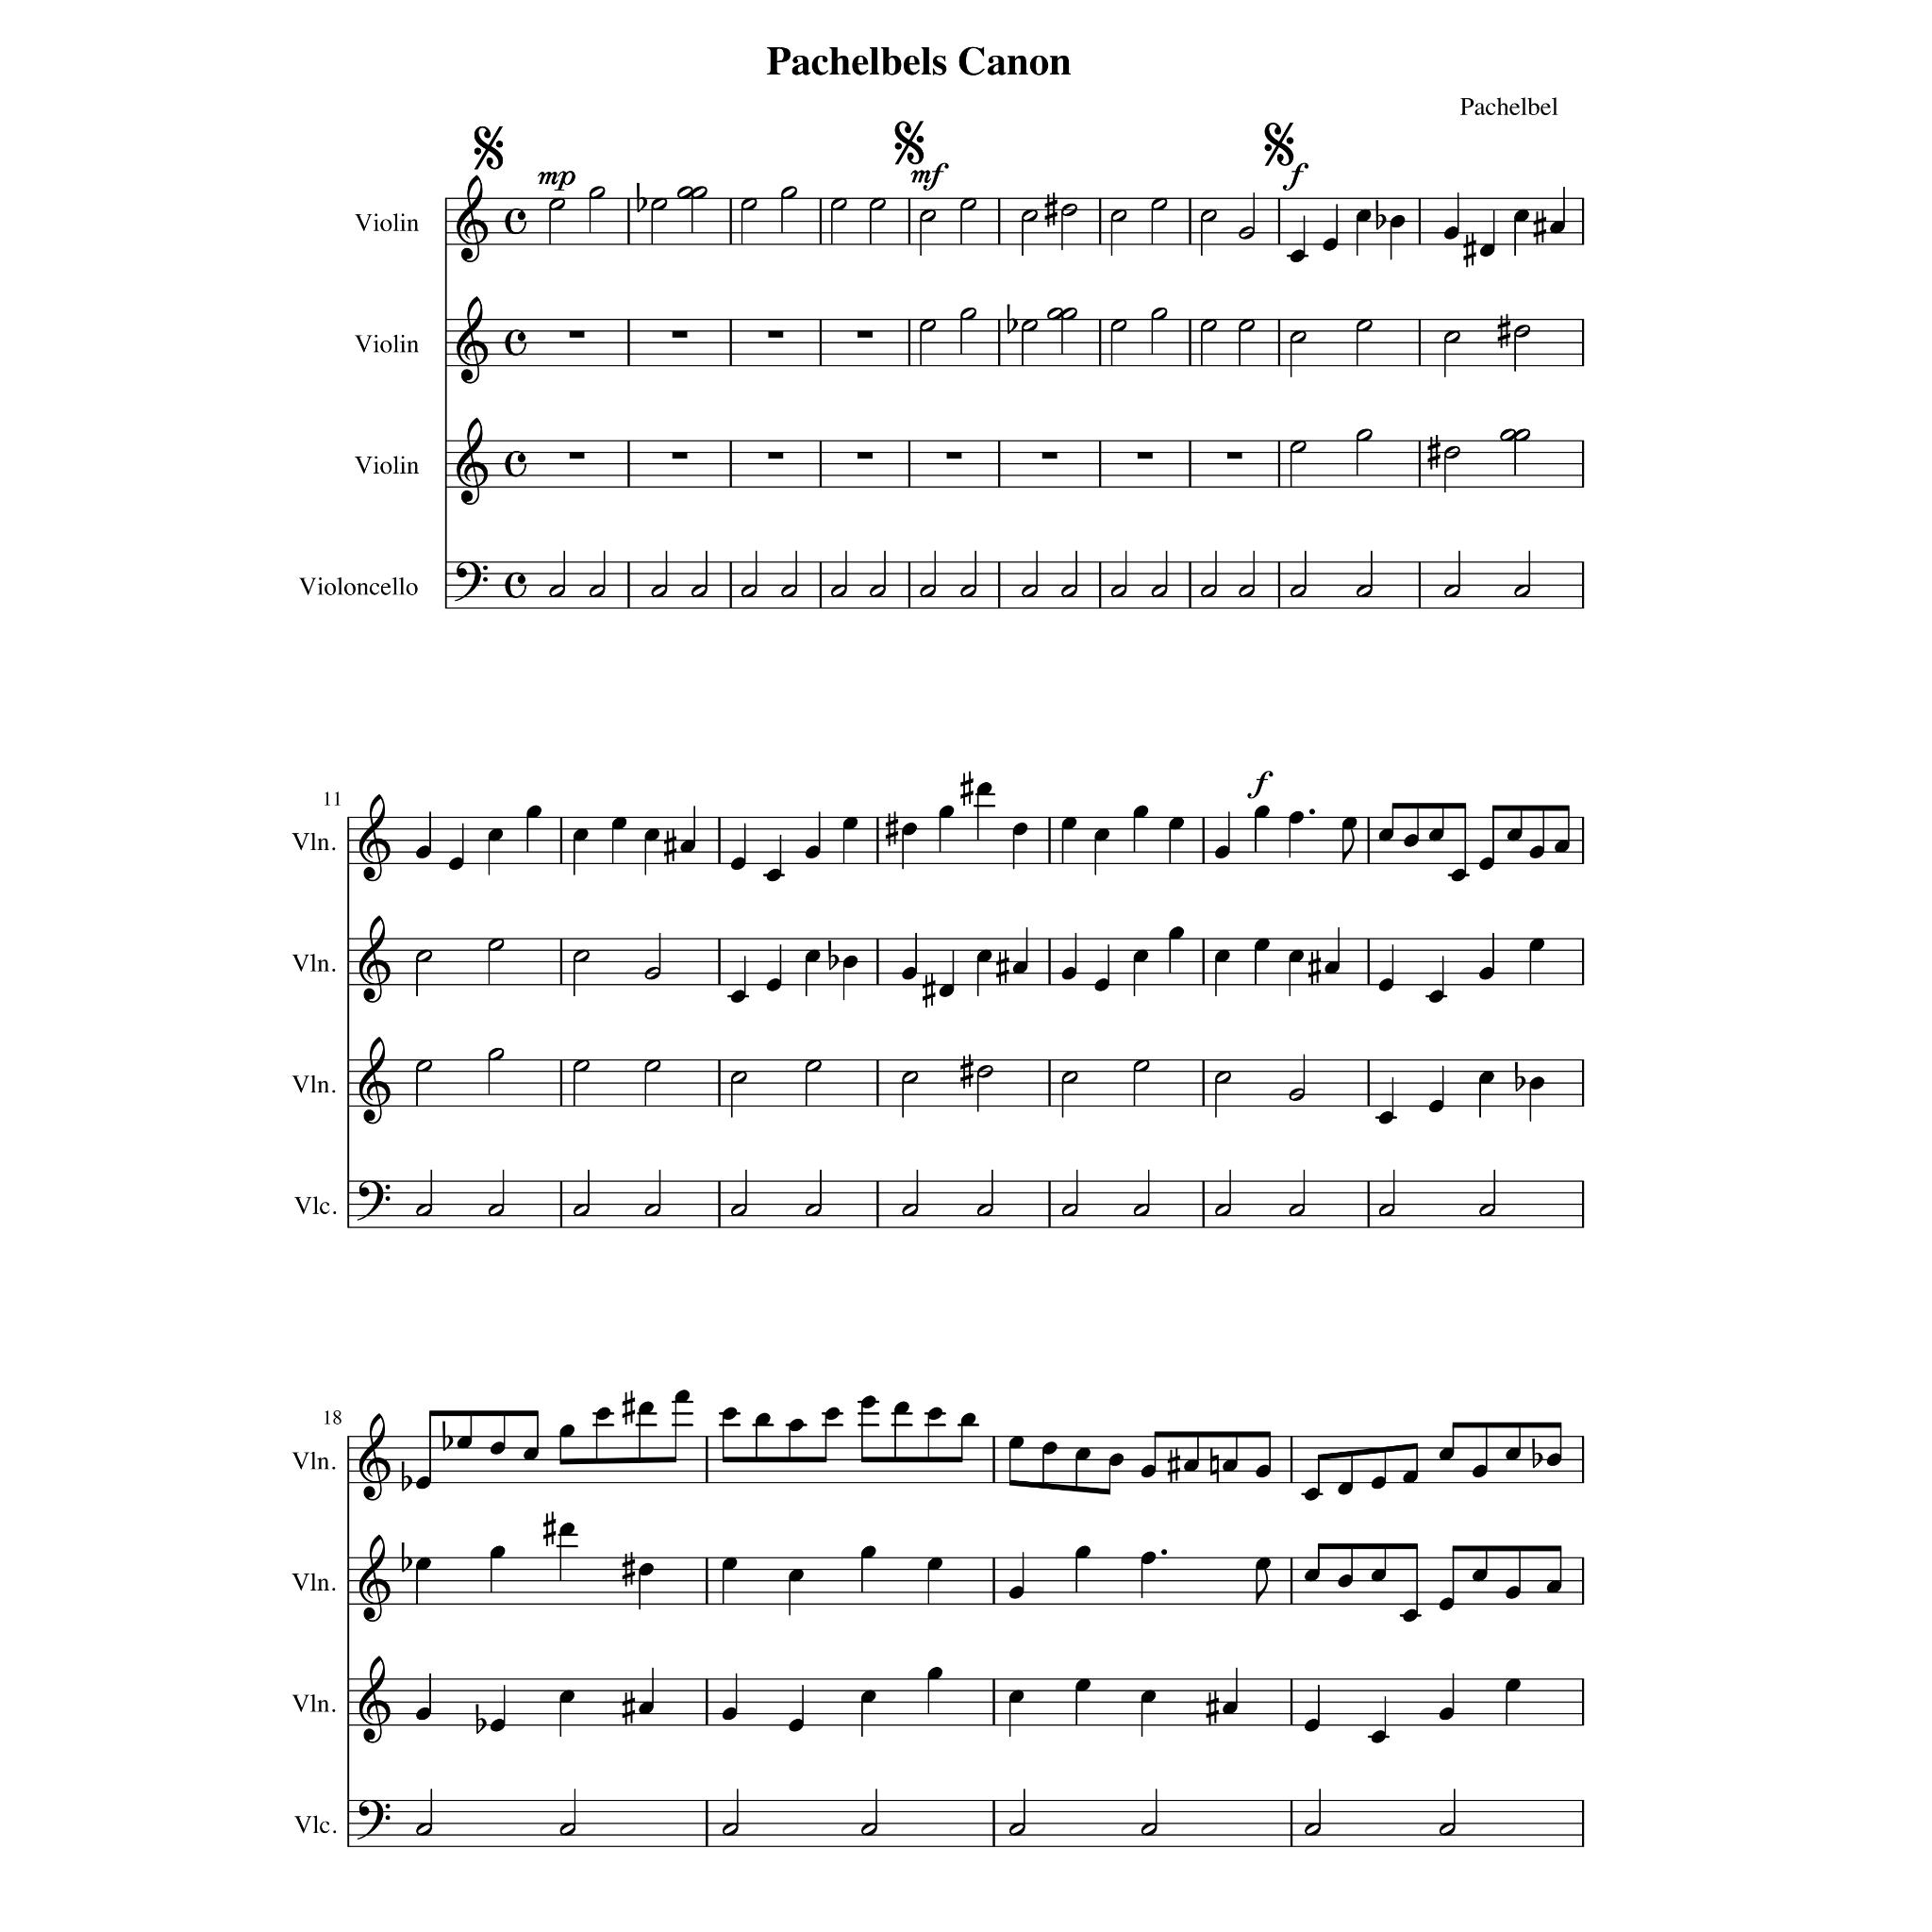fClef: (453, 563, 488, 602), (357, 1180, 391, 1221), (357, 1799, 391, 1840)
flag8thDown: (1256, 1569, 1269, 1605), (1341, 830, 1353, 863)
gClef: (456, 295, 488, 386), (359, 1035, 391, 1125), (359, 793, 391, 883), (456, 418, 488, 506), (456, 175, 488, 264), (359, 915, 391, 1003), (359, 1534, 391, 1622), (359, 1654, 391, 1743), (359, 1414, 391, 1502)
noteheadBlack: (1355, 209, 1373, 223), (1214, 846, 1231, 860), (1341, 816, 1359, 830), (1369, 1476, 1387, 1490), (488, 1440, 506, 1454), (488, 1545, 506, 1559), (488, 1718, 506, 1732), (787, 1718, 805, 1732), (1290, 249, 1306, 264), (1513, 209, 1529, 223), (1479, 244, 1495, 258), (1253, 805, 1269, 819), (1012, 961, 1028, 975), (1062, 816, 1077, 830), (1132, 805, 1148, 819), (1168, 816, 1184, 830), (1093, 828, 1109, 842), (1507, 828, 1523, 842), (1529, 846, 1545, 860), (1529, 1076, 1545, 1090), (1479, 856, 1495, 870), (1451, 869, 1467, 883), (1479, 1070, 1495, 1085), (1378, 828, 1394, 842), (1378, 1111, 1394, 1125), (1323, 961, 1339, 975), (1430, 989, 1445, 1003), (1403, 833, 1419, 847), (1430, 828, 1445, 842), (571, 828, 587, 842), (729, 856, 745, 870), (729, 989, 745, 1003), (644, 828, 660, 842), (416, 846, 432, 860), (525, 805, 541, 819), (448, 856, 464, 870), (487, 828, 502, 842), (938, 805, 954, 819), (938, 984, 954, 998), (766, 869, 782, 883), (805, 846, 821, 860), (842, 816, 858, 830), (842, 955, 858, 970), (1254, 1465, 1270, 1479), (1223, 1700, 1238, 1714), (1304, 1718, 1320, 1732), (1042, 1440, 1058, 1454), (1139, 1465, 1155, 1479), (1139, 1552, 1155, 1566), (1108, 1453, 1123, 1467), (1506, 1585, 1522, 1599), (1506, 1677, 1522, 1691), (1472, 1465, 1488, 1479), (1546, 1453, 1562, 1467), (1546, 1580, 1562, 1594), (1338, 1575, 1353, 1589), (1438, 1707, 1454, 1721), (1403, 1470, 1419, 1484), (559, 1424, 575, 1438), (674, 1389, 690, 1403), (639, 1401, 655, 1415), (639, 1700, 655, 1714), (416, 1476, 432, 1490), (416, 1707, 432, 1721), (893, 1401, 909, 1415), (860, 1545, 876, 1559), (1008, 1585, 1024, 1599), (927, 1667, 943, 1681), (961, 1412, 977, 1426), (722, 1707, 738, 1721), (754, 1412, 770, 1426), (1214, 950, 1231, 962), (1553, 840, 1571, 853), (1369, 1569, 1387, 1582), (1369, 1730, 1387, 1743), (787, 1419, 805, 1431), (787, 1569, 805, 1582), (612, 816, 626, 830), (1076, 1545, 1090, 1559), (1076, 1677, 1090, 1691), (1548, 221, 1564, 234), (1389, 216, 1405, 228), (1444, 226, 1460, 239), (1322, 239, 1338, 251), (1012, 823, 1028, 835), (1288, 812, 1304, 824), (1253, 939, 1269, 952), (1288, 950, 1304, 962), (1062, 968, 1077, 980), (1132, 950, 1148, 962), (1168, 927, 1184, 939), (1093, 978, 1109, 991), (1529, 939, 1545, 952), (1479, 968, 1495, 980), (1378, 978, 1394, 991), (1430, 1100, 1445, 1113), (679, 840, 695, 853), (977, 782, 993, 794), (977, 950, 993, 962), (766, 978, 782, 991), (805, 950, 821, 962), (1254, 1557, 1270, 1569), (1184, 1460, 1200, 1472), (1223, 1460, 1238, 1472), (1304, 1569, 1320, 1582), (1304, 1488, 1320, 1500), (1139, 1690, 1155, 1702), (1506, 1447, 1522, 1460), (1472, 1569, 1488, 1582), (1338, 1483, 1353, 1495), (1438, 1447, 1454, 1460), (1438, 1598, 1454, 1610), (1403, 1610, 1419, 1622), (559, 1690, 575, 1702), (559, 1523, 575, 1536), (524, 1447, 540, 1460), (594, 1408, 610, 1421), (639, 1564, 655, 1576), (416, 1557, 432, 1569), (456, 1437, 472, 1449), (824, 1408, 840, 1421), (860, 1396, 876, 1408), (860, 1690, 876, 1702), (1008, 1437, 1024, 1449), (1008, 1690, 1024, 1702), (927, 1408, 943, 1421), (927, 1557, 943, 1569), (722, 1408, 738, 1421), (722, 1557, 738, 1569), (902, 823, 916, 835), (902, 968, 916, 980), (1076, 1447, 1090, 1460)
noteheadHalf: (1200, 209, 1217, 223), (1200, 318, 1217, 333), (1200, 584, 1217, 598), (1513, 584, 1530, 598), (1355, 584, 1373, 598), (1355, 318, 1373, 333), (676, 186, 694, 200), (690, 186, 708, 200), (690, 584, 708, 598), (830, 584, 847, 598), (780, 186, 798, 200), (780, 584, 798, 598), (649, 584, 667, 598), (1021, 318, 1039, 333), (1021, 584, 1039, 598), (1021, 209, 1039, 223), (959, 584, 977, 598), (1060, 584, 1077, 598), (1060, 203, 1077, 218), (918, 209, 936, 223), (869, 584, 886, 598), (918, 318, 936, 333), (918, 584, 936, 598), (1214, 1070, 1231, 1085), (1214, 1203, 1231, 1217), (1132, 1203, 1150, 1217), (1378, 1203, 1396, 1217), (1438, 1822, 1456, 1836), (860, 1822, 878, 1836), (1008, 1822, 1026, 1836), (1290, 584, 1306, 598), (1238, 584, 1254, 598), (1238, 318, 1254, 333), (1152, 584, 1168, 598), (1444, 446, 1460, 460), (1444, 584, 1460, 598), (741, 584, 757, 598), (548, 584, 564, 598), (589, 186, 605, 200), (589, 584, 605, 598), (1111, 209, 1127, 223), (1111, 318, 1127, 333), (1111, 584, 1127, 598), (1288, 1203, 1304, 1217), (1062, 1070, 1077, 1085), (1062, 1203, 1077, 1217), (1479, 1203, 1495, 1217), (573, 1203, 589, 1217), (731, 1070, 747, 1085), (731, 1203, 747, 1217), (644, 1203, 660, 1217), (416, 1203, 432, 1217), (488, 1047, 504, 1062), (488, 1203, 504, 1217), (902, 1070, 918, 1085), (902, 1203, 918, 1217), (977, 1203, 993, 1217), (977, 1065, 993, 1079), (805, 1203, 821, 1217), (1304, 1822, 1320, 1836), (1141, 1822, 1157, 1836), (559, 1822, 575, 1836), (416, 1822, 432, 1836), (722, 1822, 738, 1836), (1513, 326, 1530, 338), (1499, 430, 1516, 442), (1513, 430, 1530, 442), (1355, 430, 1373, 442), (830, 198, 847, 211), (649, 198, 667, 211), (959, 198, 977, 211), (959, 308, 977, 320), (1046, 308, 1063, 320), (1060, 308, 1077, 320), (869, 198, 886, 211), (1132, 1060, 1150, 1072), (1290, 331, 1306, 343), (1290, 441, 1306, 453), (1152, 308, 1168, 320), (1152, 198, 1168, 211), (1238, 226, 1254, 239), (1444, 331, 1460, 343), (741, 198, 757, 211), (548, 198, 564, 211), (1288, 1088, 1304, 1100), (573, 950, 589, 962), (573, 1060, 589, 1072), (644, 968, 660, 980), (644, 1060, 660, 1072), (416, 950, 432, 962), (416, 1060, 432, 1072), (488, 939, 504, 952), (805, 1060, 821, 1072)
restWhole: (1138, 451, 1154, 460), (1040, 451, 1056, 460), (947, 451, 962, 460), (856, 451, 872, 460), (768, 451, 784, 460), (671, 451, 686, 460), (1226, 451, 1242, 460), (568, 451, 584, 460), (856, 331, 872, 338), (768, 331, 784, 338), (671, 331, 686, 338), (568, 331, 584, 338)
